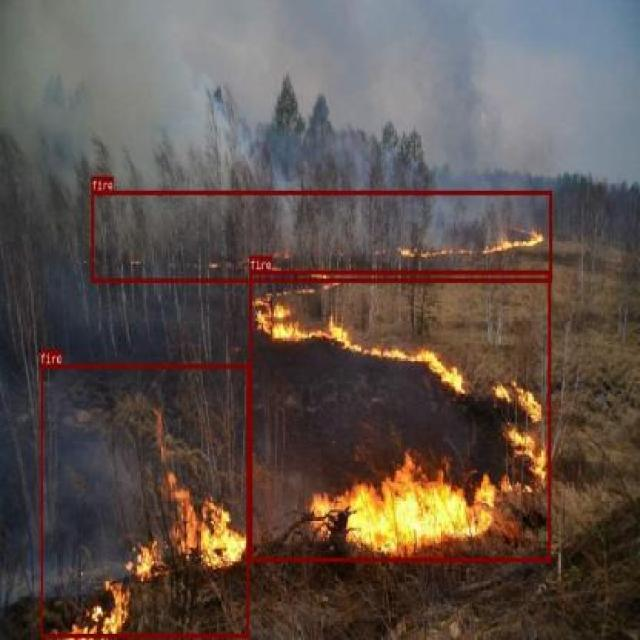Fire: (249, 269, 551, 562), (40, 364, 248, 638), (90, 190, 552, 281)
